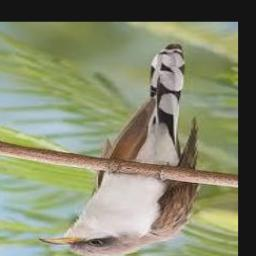Cuckoo: (39, 44, 199, 256)
